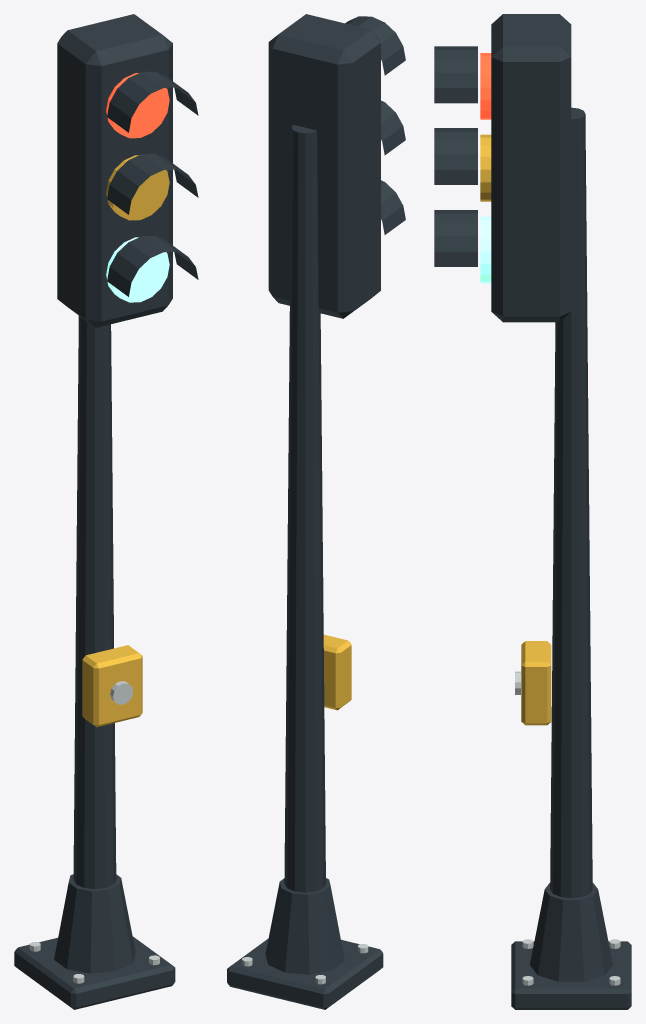
File: Traffic_Signal_Pole.glb
3 views of the same model, side by side, from view 1: azimuth 30°, elevation 25°; view 2: azimuth 150°, elevation 25°; view 3: azimuth 270°, elevation 25° (orthographic). The views are drawn at different scales.
Visible parts, largest first — view 1: Traffic_Signal_Pole; view 2: Traffic_Signal_Pole; view 3: Traffic_Signal_Pole.
Part boxes in pixels (left/top/right/bottom): Traffic_Signal_Pole: left=14, top=14, right=198, bottom=1009; Traffic_Signal_Pole: left=227, top=14, right=405, bottom=1009; Traffic_Signal_Pole: left=434, top=14, right=631, bottom=1009.
Bounding box in the file's own units: 0.36 × 3.15 × 0.59.
